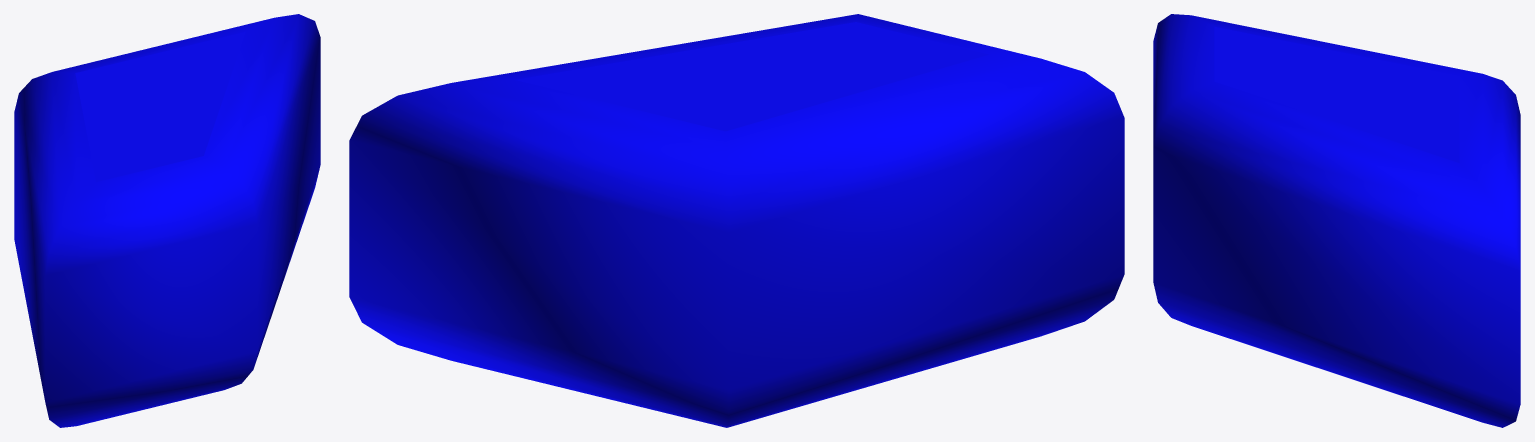
The picture shows the model from 3 angles, left to right: view 1: azimuth 30°, elevation 25°; view 2: azimuth 150°, elevation 25°; view 3: azimuth 270°, elevation 25°; orthographic projection. The views are drawn at different scales.
Visible parts, largest first — view 1: texto; view 2: texto; view 3: texto.
Part boxes in pixels (<box>): texto: <box>14,14,320,427</box>; texto: <box>349,14,1124,427</box>; texto: <box>1153,14,1520,427</box>.
Size of the model in its own units: 0.4466 by 0.22 by 0.3008.
